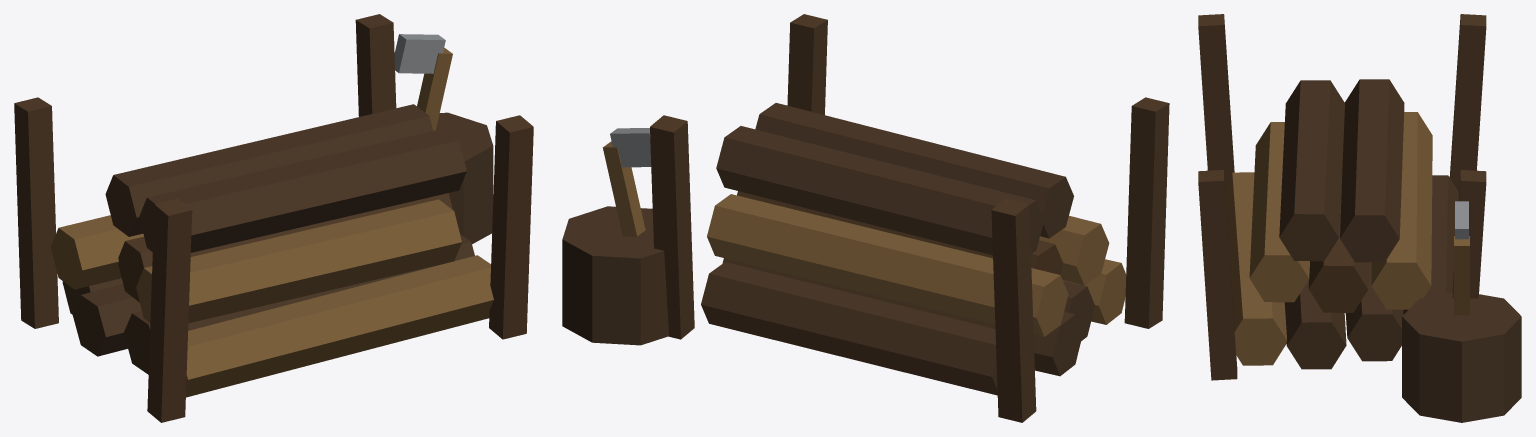
File: log_pile.glb
3 renders of one model, left to right at view 1: azimuth 30°, elevation 25°; view 2: azimuth 150°, elevation 25°; view 3: azimuth 270°, elevation 25°, orthographic. The views are drawn at different scales.
Parts seen in each view (by area): view 1: Cylinder, Cylinder.007, Cylinder.004, Cylinder.008, Cube.001, Cube, Cube.002, Cylinder.009, Cylinder.006, Cube.003, Cylinder.002, Cylinder.005 (+4 smaller); view 2: Cylinder.006, Cylinder.003, Cylinder.008, Cylinder.009, Cylinder.007, Cube, Cube.001, Cube.003, Cube.002, Cylinder.002, Cylinder.004, Cube.004 (+4 smaller); view 3: Cylinder.009, Cylinder.008, Cylinder.007, Cylinder.006, Cylinder, Cylinder.004, Cube.002, Cube.001, Cube, Cylinder.001, Cylinder.005, Cylinder.002 (+4 smaller).
Boxes of the visible parts, left/top/right/bottom form: Cylinder: left=186, top=255, right=493, bottom=397; Cylinder.007: left=139, top=128, right=466, bottom=252; Cylinder.004: left=136, top=199, right=461, bottom=323; Cylinder.008: left=105, top=104, right=432, bottom=236; Cube.001: left=14, top=97, right=58, bottom=328; Cube: left=147, top=198, right=192, bottom=422; Cube.002: left=489, top=115, right=533, bottom=339; Cylinder.009: left=436, top=112, right=493, bottom=244; Cylinder.006: left=50, top=215, right=143, bottom=289; Cube.003: left=355, top=14, right=396, bottom=116; Cylinder.002: left=72, top=284, right=141, bottom=356; Cylinder.005: left=118, top=193, right=452, bottom=302; Cylinder.006: left=707, top=194, right=1068, bottom=336; Cylinder.003: left=701, top=262, right=997, bottom=395; Cylinder.008: left=716, top=126, right=1044, bottom=255; Cylinder.009: left=562, top=206, right=668, bottom=345; Cylinder.007: left=755, top=103, right=1073, bottom=238; Cube: left=1124, top=97, right=1169, bottom=328; Cube.001: left=991, top=198, right=1036, bottom=422; Cube.003: left=650, top=115, right=694, bottom=339; Cube.002: left=787, top=14, right=827, bottom=114; Cylinder.002: left=722, top=258, right=1082, bottom=376; Cylinder.004: left=1039, top=215, right=1109, bottom=285; Cube.004: left=602, top=141, right=645, bottom=236; Cylinder.009: left=1402, top=293, right=1521, bottom=422; Cylinder.008: left=1340, top=79, right=1404, bottom=262; Cylinder.007: left=1279, top=80, right=1344, bottom=261; Cylinder.006: left=1371, top=112, right=1432, bottom=309; Cylinder: left=1225, top=172, right=1287, bottom=365; Cylinder.004: left=1249, top=122, right=1309, bottom=302; Cube.002: left=1198, top=170, right=1237, bottom=380; Cube.001: left=1449, top=14, right=1486, bottom=191; Cube: left=1198, top=14, right=1234, bottom=183; Cylinder.001: left=1284, top=280, right=1346, bottom=369; Cylinder.005: left=1308, top=175, right=1369, bottom=312; Cylinder.002: left=1345, top=262, right=1403, bottom=361.
Size of the model in its own units: 49.8 by 22.12 by 32.46.
